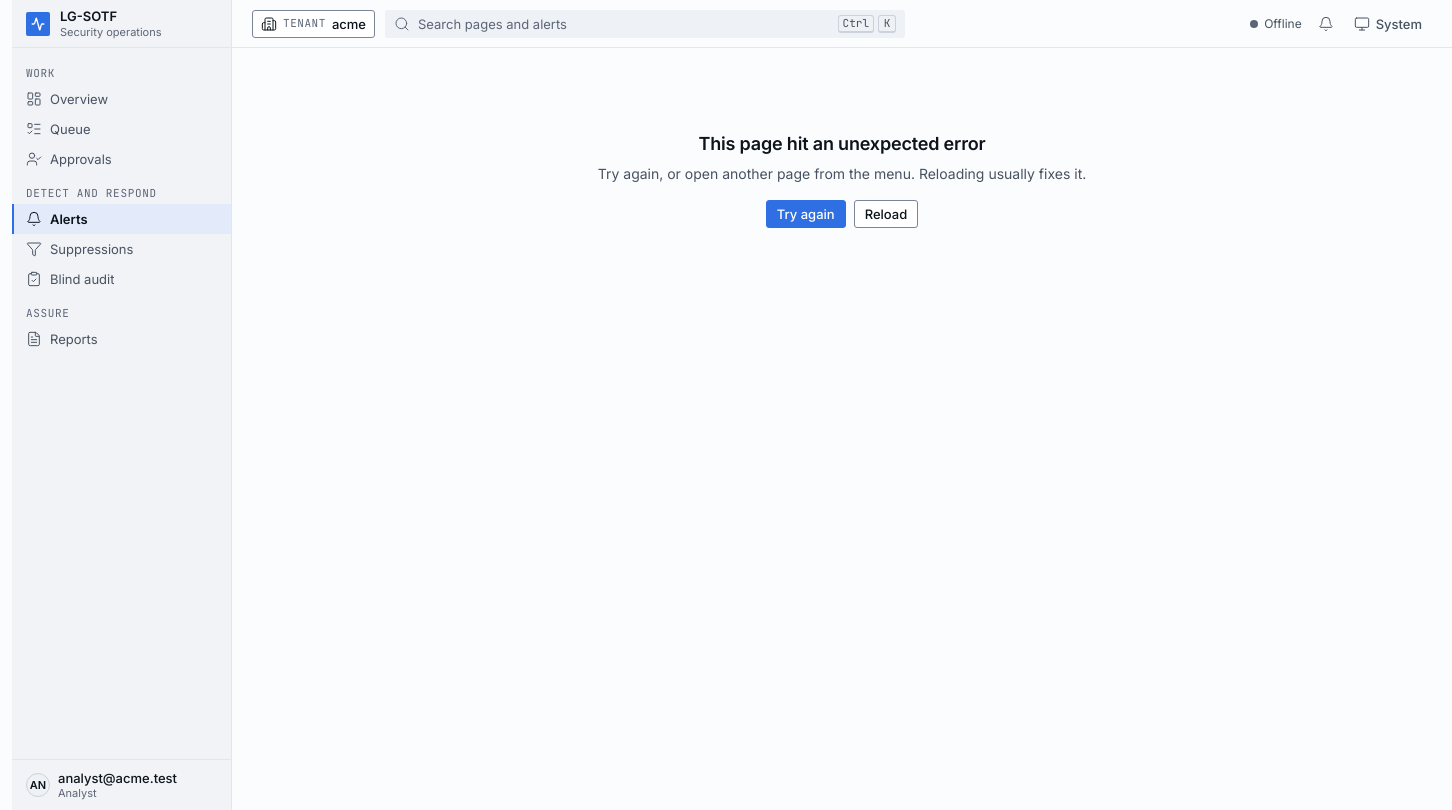
Test: per-route boundary in the shell › keeps the navigation and sign-out when a page crashes, and recovers on navigation
Expected: the heading "This page hit an unexpected error" is shown, [698,133,986,154]
Expected: the navigation bar named "Main" is shown, [12,0,231,809]
Click the link "Overview" at (67, 99), box [26,91,108,107]
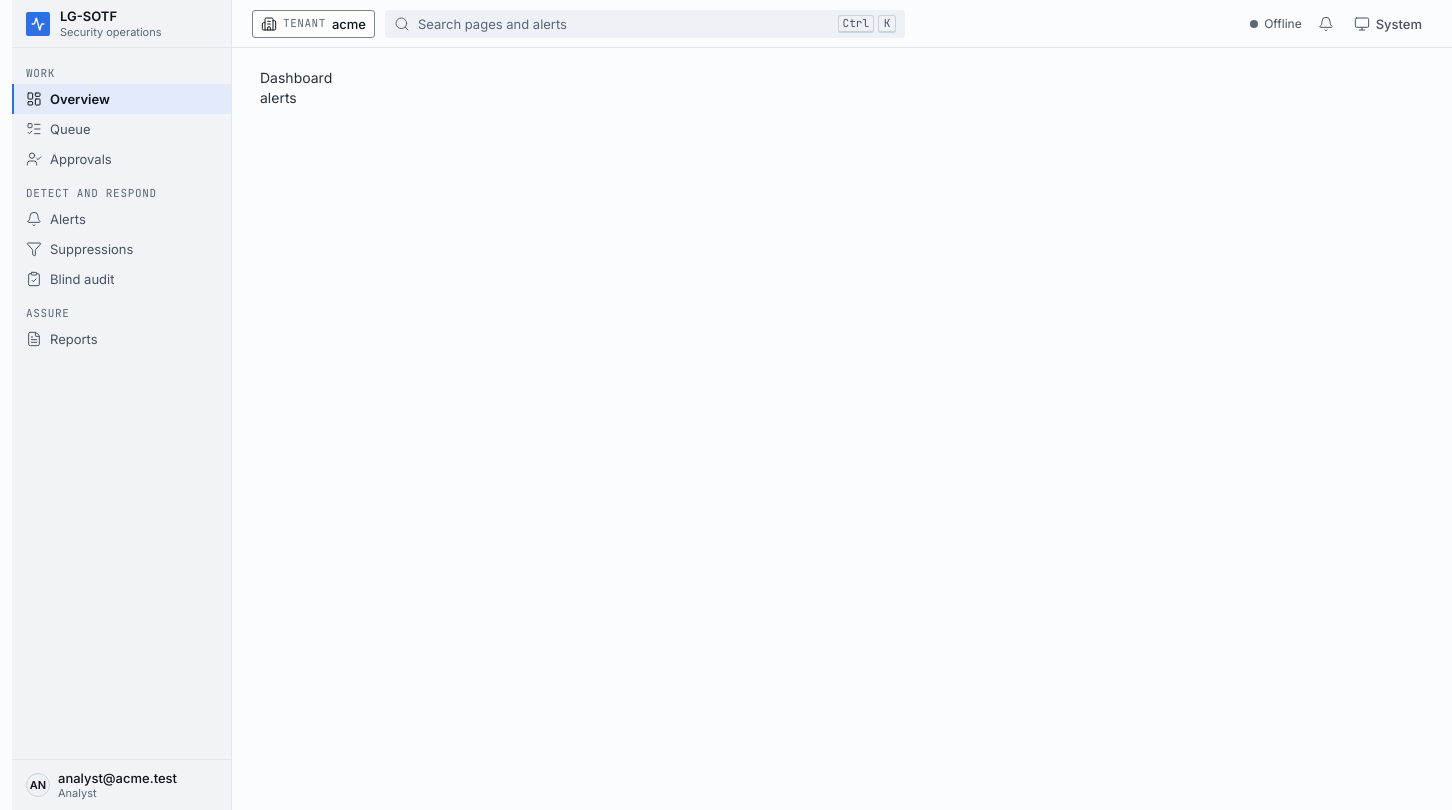
Result: the heading "Dashboard" is shown at [260,69,332,86]
Click the link "alerts" at (278, 98), box [260,89,297,106]
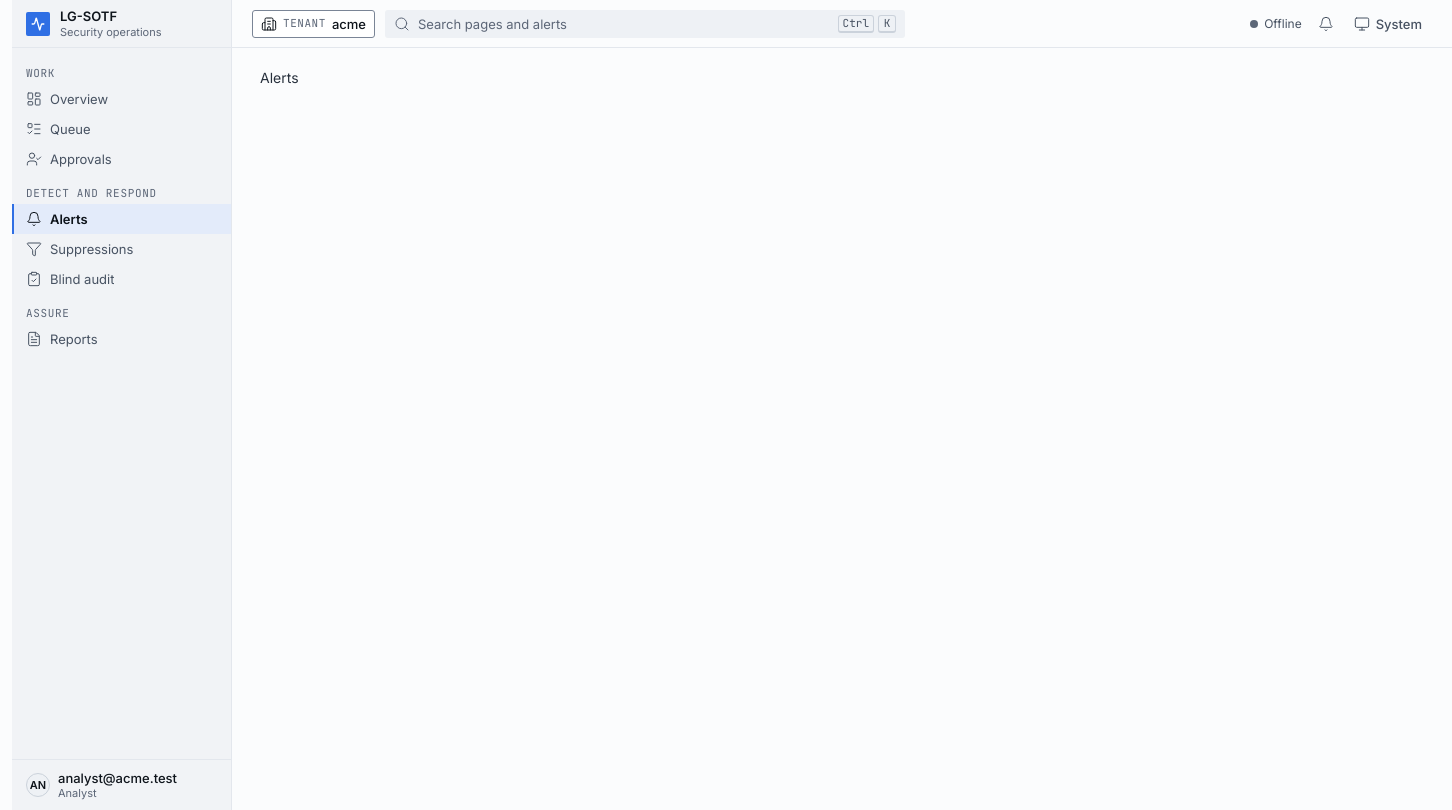
Result: the heading "Alerts" is shown at [260,69,298,86]
